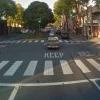Crosswalk: (7, 56, 100, 91)
